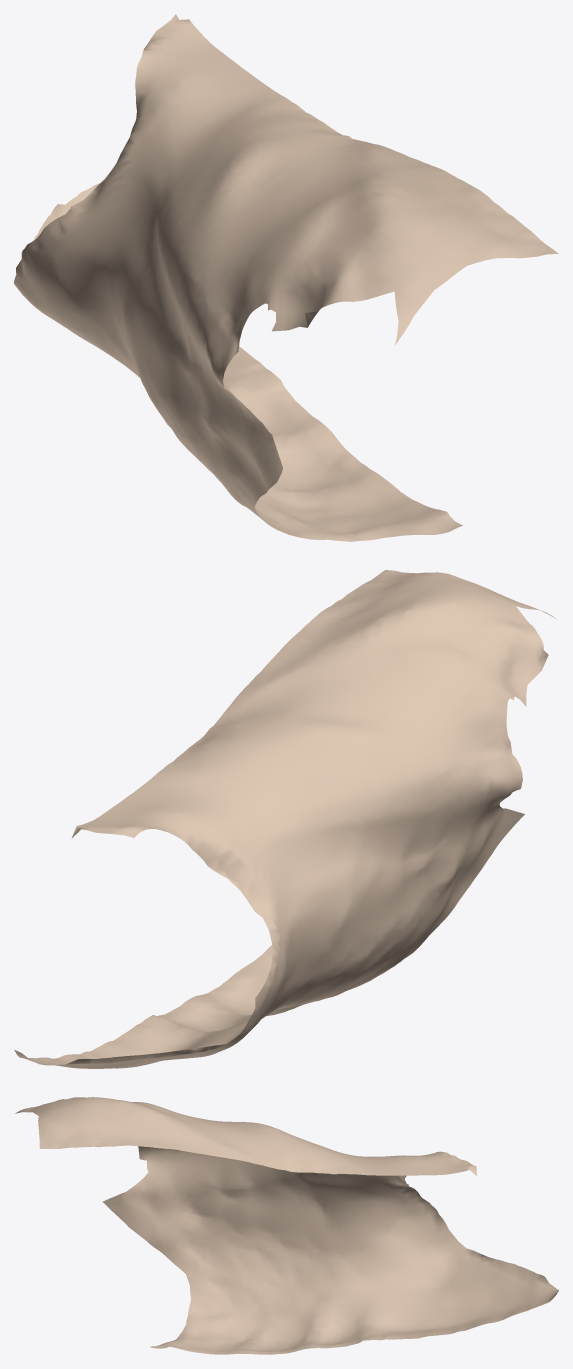
3 views of the same model, one above another, from view 1: azimuth 30°, elevation 25°; view 2: azimuth 150°, elevation 25°; view 3: azimuth 270°, elevation 25° (orthographic). The views are drawn at different scales.
Parts seen in each view (by area): view 1: 右侧腹壁包被筋膜; view 2: 右侧腹壁包被筋膜; view 3: 右侧腹壁包被筋膜.
Boxes of the visible parts, bbox=[...] form: 右侧腹壁包被筋膜: bbox=[14, 14, 558, 541]; 右侧腹壁包被筋膜: bbox=[14, 570, 555, 1068]; 右侧腹壁包被筋膜: bbox=[15, 1097, 558, 1354].
Size of the model in its own units: 0.2516 by 0.379 by 0.815.
